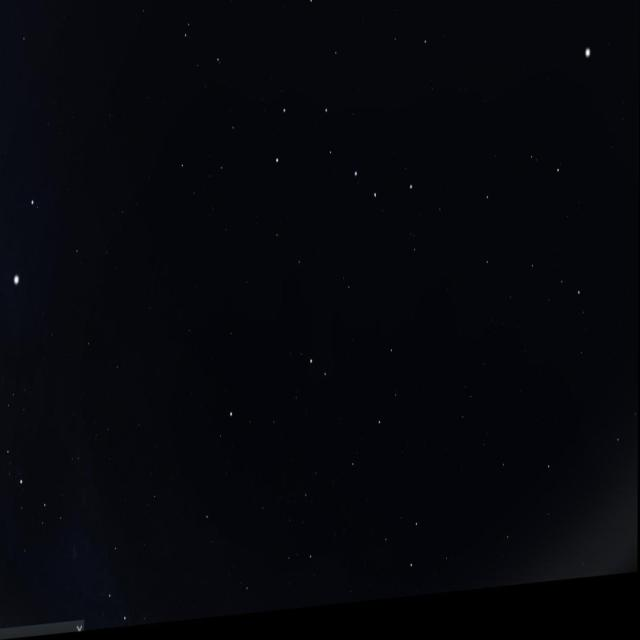cassiopeia: (98, 515, 153, 632)
ursa_major: (264, 76, 419, 230)
